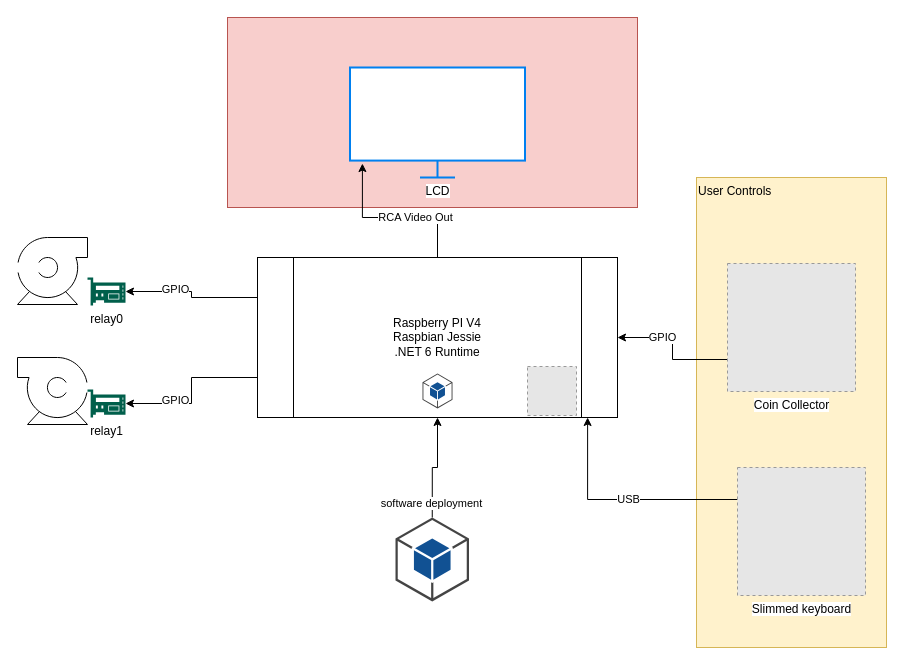
Some shapes in this 904 by 665 pixel diagram are drawn without their labels. Grey dashed boxes stand in for pictures. The box of each missing label's shape, as (x1, y1, x2, y2) in pixels:
.NET 6 software: (394, 516, 469, 602)
Pump0: (16, 236, 88, 304)
Pump1: (16, 356, 88, 424)
User Information Systems: (226, 16, 638, 208)
